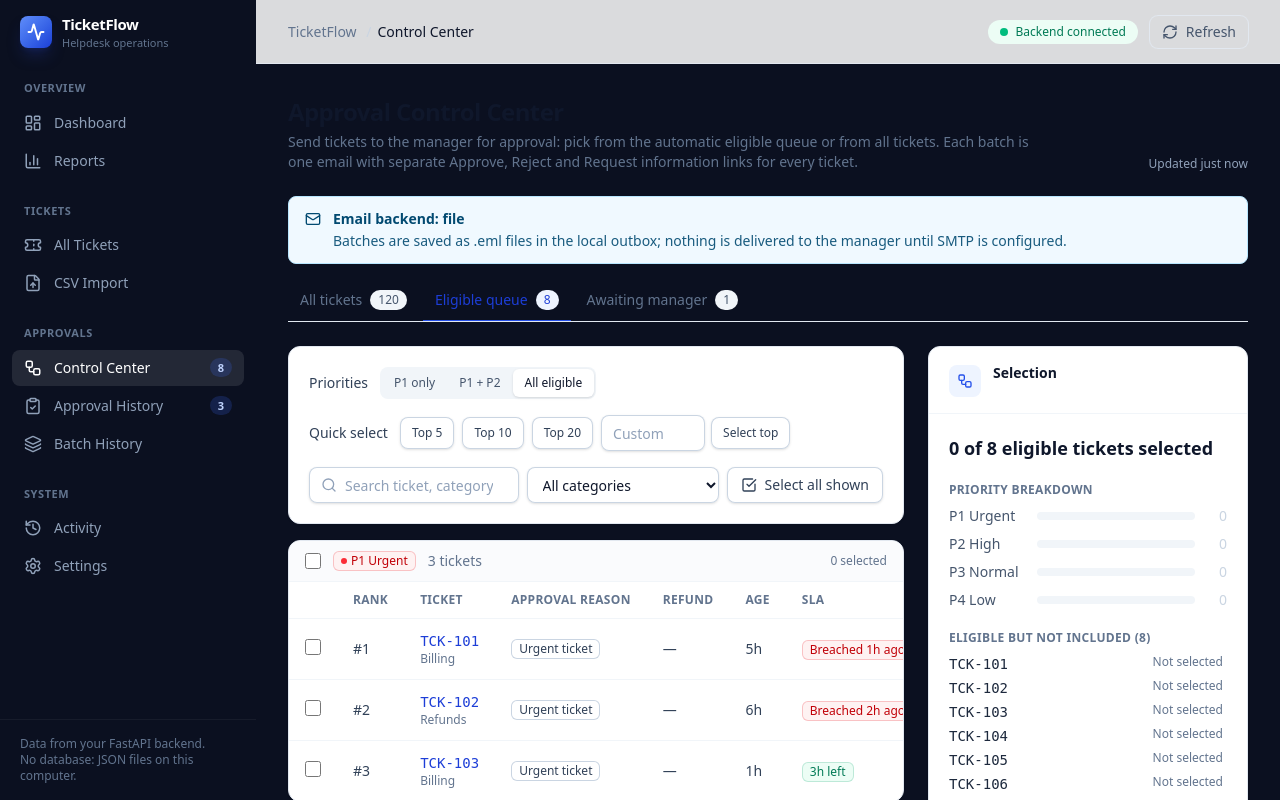
Test: Approval Control Center › supports P1 + P2, custom count, manual selection, select all and clear
Expected: the link "TCK-101" is shown, x1=420 y1=633 x2=479 y2=649
Click the radio button labelled "P1 + P2": (480, 383) x1=447 y1=369 x2=512 y2=397
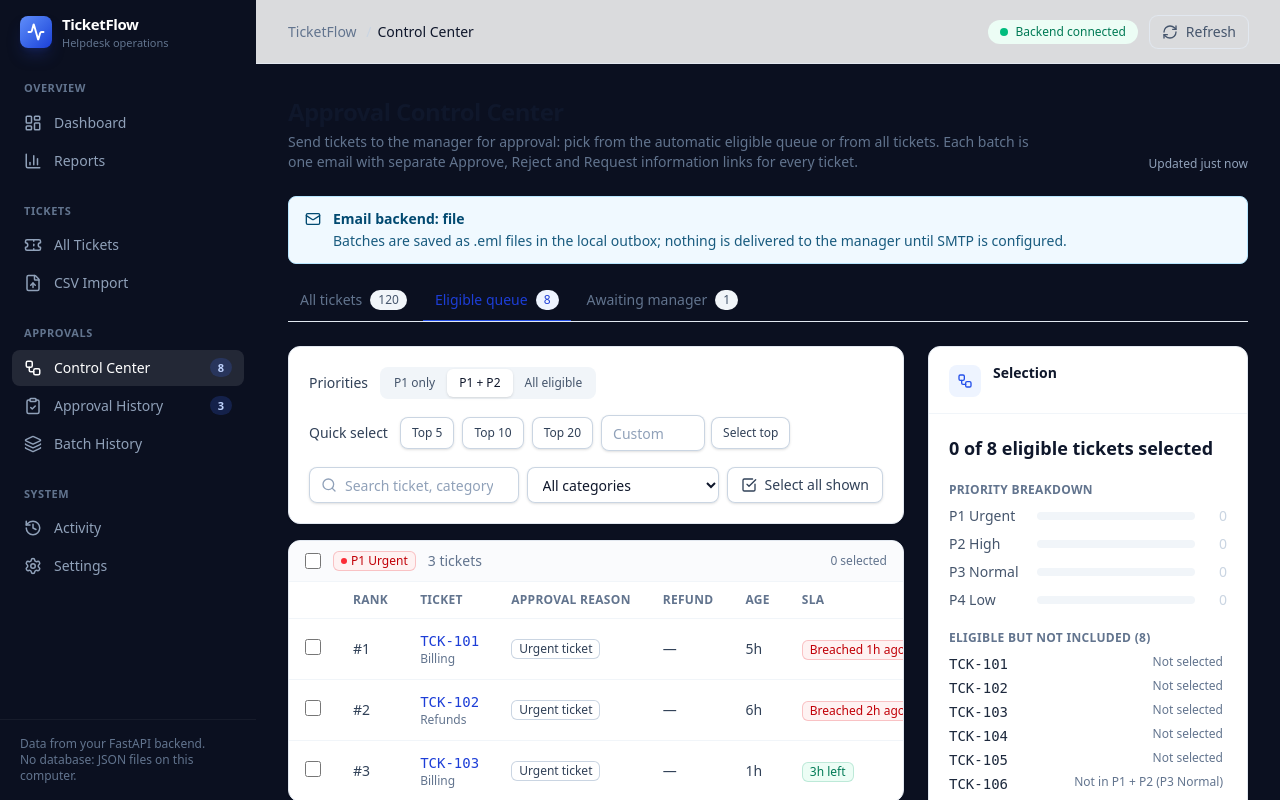
In the number field named "Custom number of tickets": (653, 433) x1=601 y1=415 x2=705 y2=451, type "4"
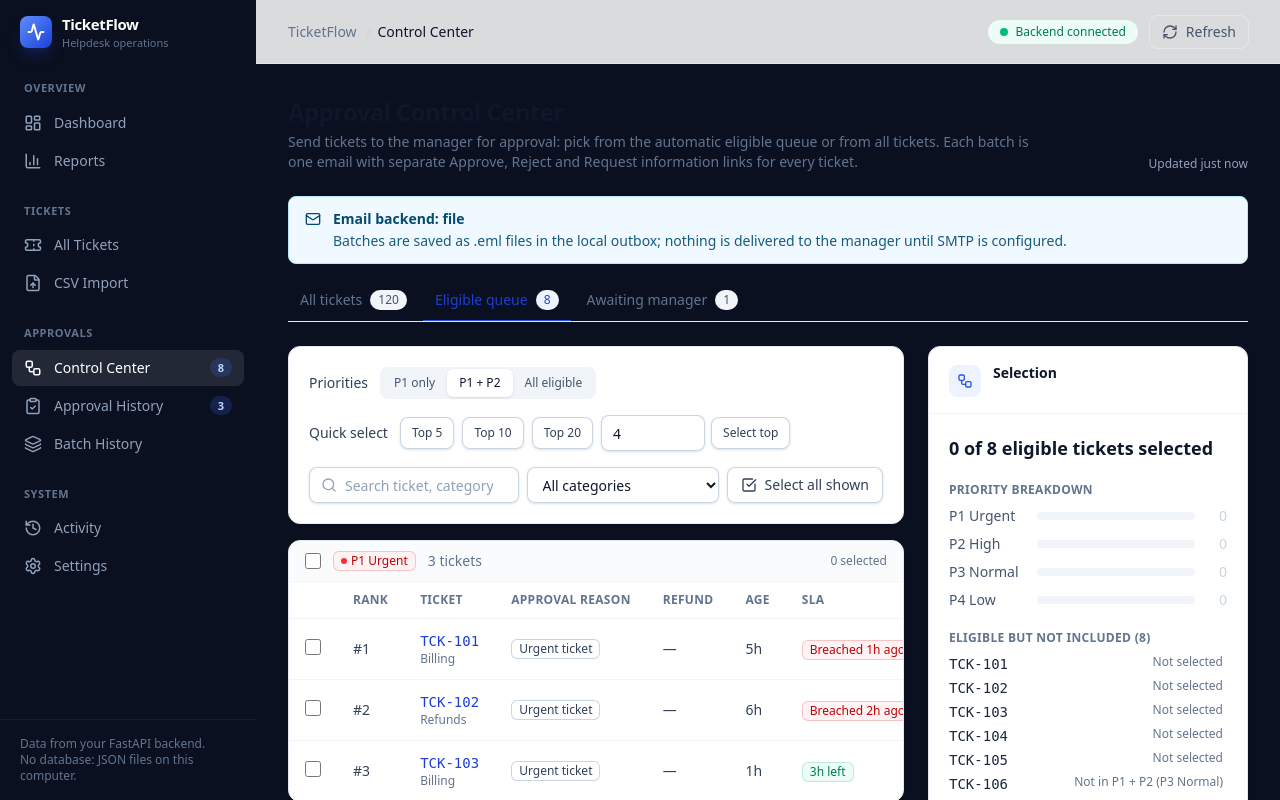
Click the button "Select top": (751, 433) x1=711 y1=417 x2=790 y2=449
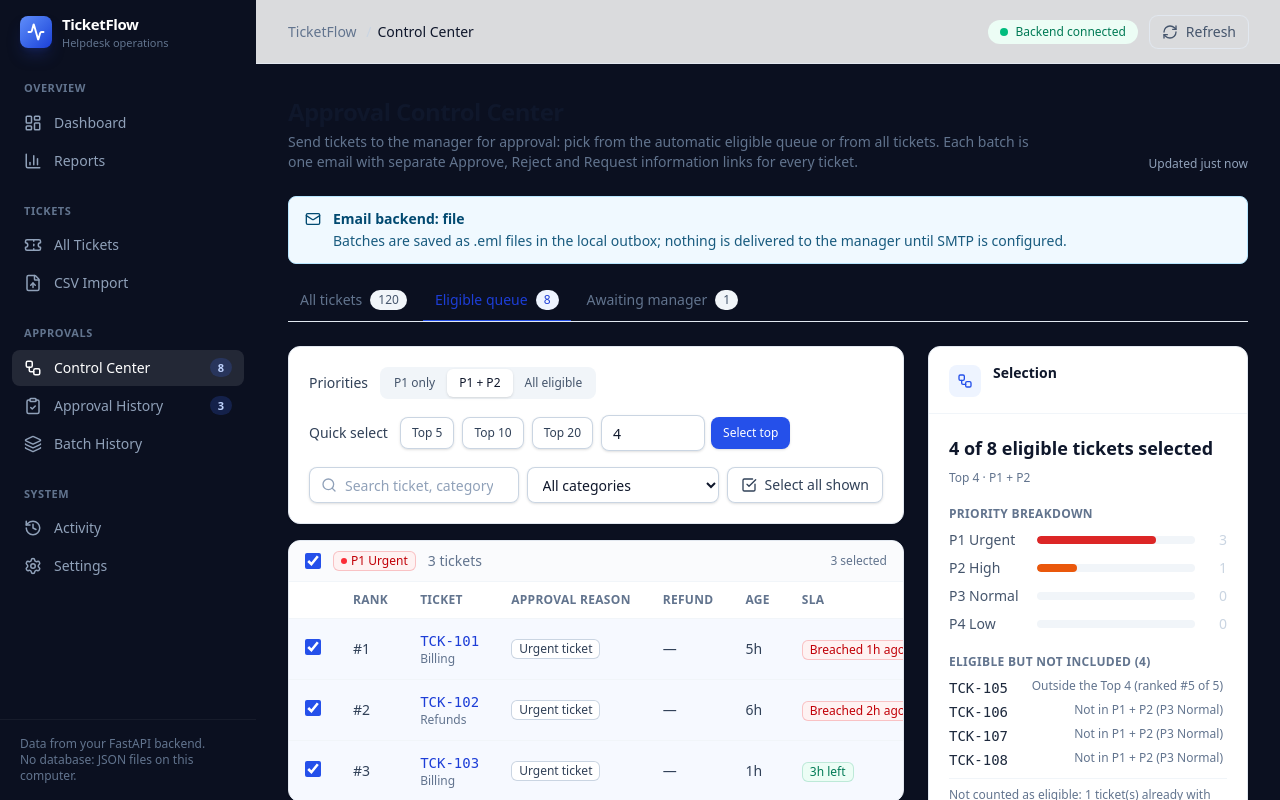
Result: the text with test id "selection-summary" reads "4 of 8 eligible tickets selected" at x1=949 y1=434 x2=1227 y2=462
Click the checkbox named "Select TCK-101": (313, 646) x1=305 y1=638 x2=321 y2=654
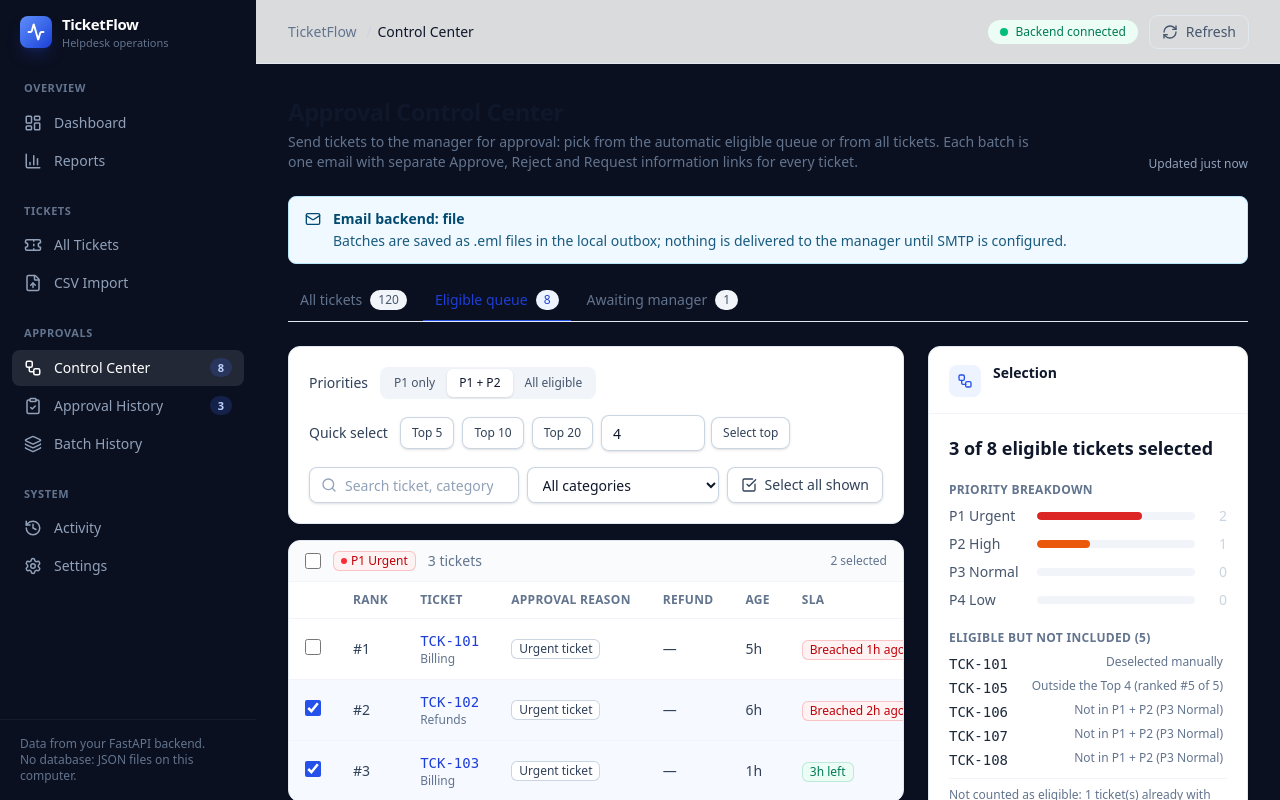
Result: the text with test id "selection-summary" reads "3 of 8 eligible tickets selected" at x1=949 y1=434 x2=1227 y2=462
Click the button "Select all shown": (805, 485) x1=727 y1=467 x2=883 y2=503
(page scrolled)
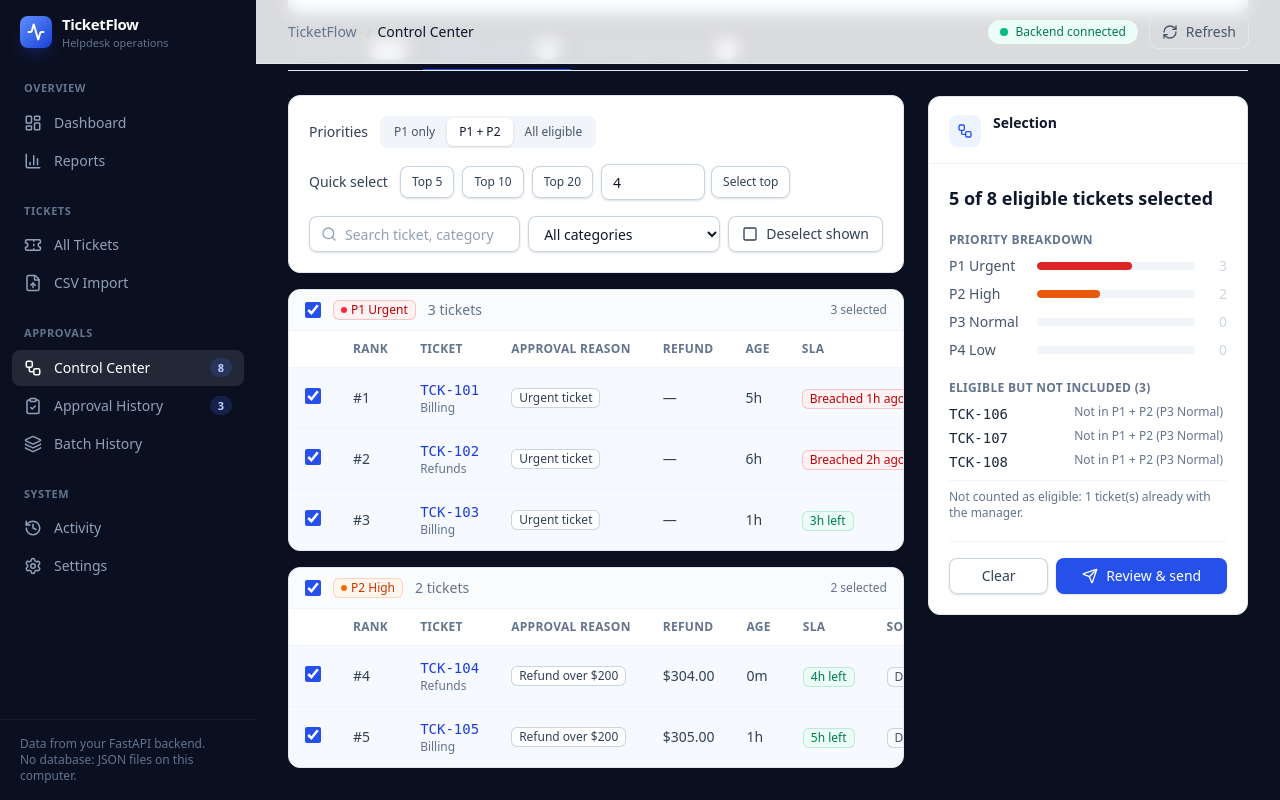
Result: the text with test id "selection-summary" reads "5 of 8 eligible tickets selected" at x1=949 y1=184 x2=1227 y2=212
Click the button "Clear": (999, 576) x1=949 y1=558 x2=1048 y2=594
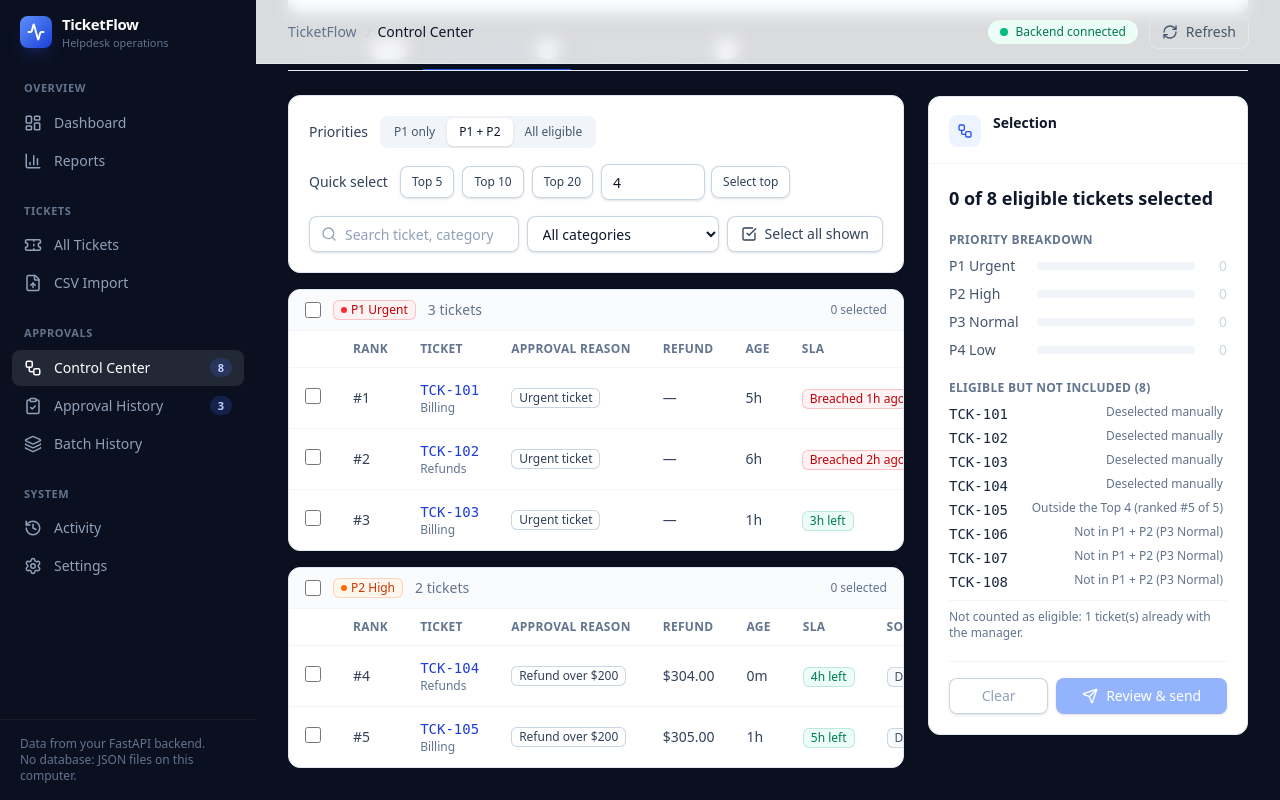
Result: the text with test id "selection-summary" reads "0 of 8 eligible tickets selected" at x1=949 y1=184 x2=1227 y2=212
